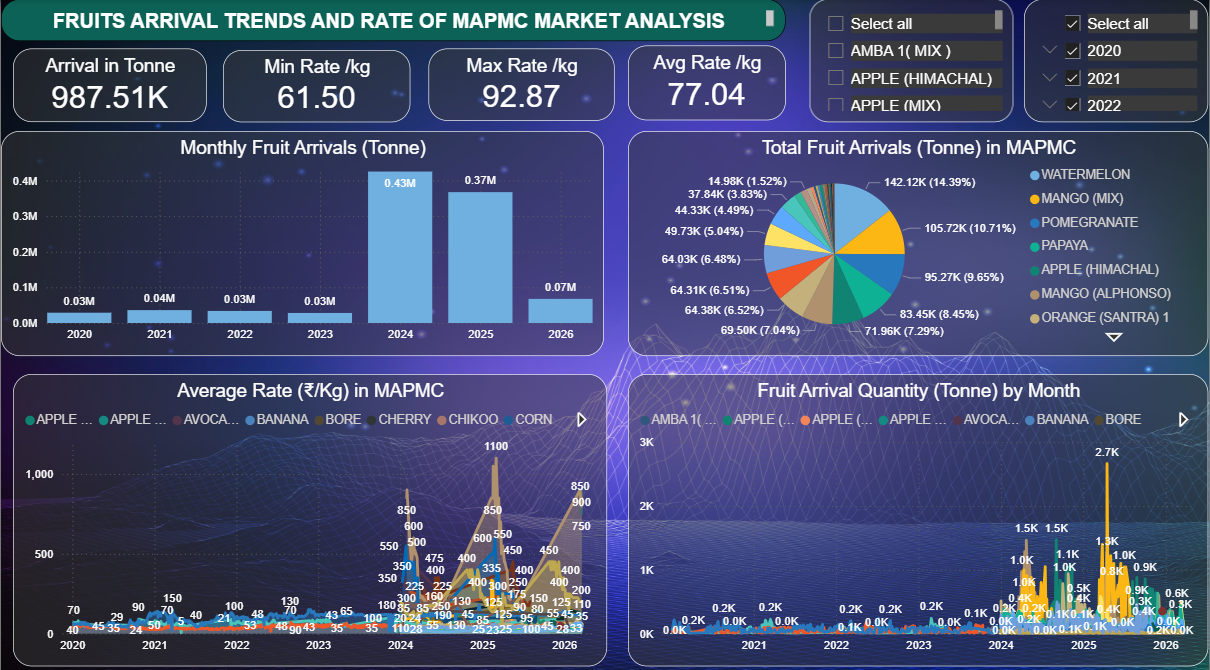

The dashboard page shown, as its layout file describes it:
{"tool":"powerbi","page":{"name":"Page 1","canvas":[1280,720],"ordinal":0},"visuals":[{"type":"slicer","fields":{"Values":["Sheet3.old Fruits"]},"box":[857.3,0,216.3,130.4],"z":0},{"type":"areaChart","title":"Fruit Arrival Quantity (Tonne) by Month","fields":{"Y":["Sum(Sheet3.Arrival in Ton)"],"Series":["Sheet3.old Fruits"],"Category":["Sheet3.Date.Variation.Date Hierarchy.Year","Sheet3.Date.Variation.Date Hierarchy.Month","Sheet3.Date.Variation.Date Hierarchy.Day"]},"box":[664.9,397.7,615.6,310.2],"z":1000},{"type":"columnChart","title":"Monthly Fruit Arrivals (Tonne)","fields":{"Y":["Sum(Sheet3.Arrival in Qtl)"],"Category":["Sheet3.Date.Variation.Date Hierarchy.Year","Sheet3.Date.Variation.Date Hierarchy.Month","Sheet3.Date.Variation.Date Hierarchy.Day"]},"box":[0,140,639.4,238.6],"z":2000},{"type":"card","title":"Arrival in Tonne","fields":{"Values":["Sum(Sheet3.Arrival in Qtl)"]},"box":[12.7,52.5,205.2,77.9],"z":3000},{"type":"slicer","fields":{"Values":["Sheet3.Date.Variation.Date Hierarchy.Year","Sheet3.Date.Variation.Date Hierarchy.Month","Sheet3.Date.Variation.Date Hierarchy.Day"]},"box":[1084.8,0,195.6,130.4],"z":4000},{"type":"pieChart","title":"Total Fruit Arrivals (Tonne) in MAPMC","fields":{"Category":["Sheet3.old Fruits"],"Y":["Sum(Sheet3.Arrival in Qtl)"]},"box":[664.9,140,615.6,238.6],"z":5000},{"type":"textbox","box":[0,0,831.9,44.5],"z":6000},{"type":"areaChart","title":"Average Rate (₹/Kg) in MAPMC","fields":{"Series":["Sheet3.old Fruits"],"Y":["Sheet3.new avg/kg"],"Category":["Sheet3.Date.Variation.Date Hierarchy.Year","Sheet3.Date.Variation.Date Hierarchy.Month","Sheet3.Date.Variation.Date Hierarchy.Day"]},"box":[12.7,397.7,629.9,310.2],"z":7000},{"type":"card","title":"Avg Rate /kg","fields":{"Values":["Sheet3.new avg/kg"]},"box":[664.9,49.3,167,79.5],"z":8000},{"type":"card","title":"Min Rate /kg","fields":{"Values":["Sheet3.new min_rate"]},"box":[235.4,54.1,198.8,76.3],"z":9000},{"type":"card","title":"Max Rate /kg","fields":{"Values":["Sheet3.new max_rate"]},"box":[453.3,52.5,197.2,76.3],"z":10000}]}

Visuals, with their boxes in screenshot pixels (x1, y1, x2, y2), scaled from the page's 1280x720 canvas onto the 1210x670 screenshot:
slicer - Sheet3.old Fruits: (810,0,1015,121)
"Fruit Arrival Quantity (Tonne) by Month" areaChart: (629,370,1209,659)
"Monthly Fruit Arrivals (Tonne)" columnChart: (0,130,604,352)
"Arrival in Tonne" card: (12,49,206,121)
slicer - Sheet3.Date.Variation.Date Hierarchy.Year x Sheet3.Date.Variation.Date Hierarchy.Month: (1025,0,1209,121)
"Total Fruit Arrivals (Tonne) in MAPMC" pieChart: (629,130,1209,352)
textbox: (0,0,786,41)
"Average Rate (₹/Kg) in MAPMC" areaChart: (12,370,607,659)
"Avg Rate /kg" card: (629,46,786,120)
"Min Rate /kg" card: (223,50,410,121)
"Max Rate /kg" card: (429,49,615,120)
